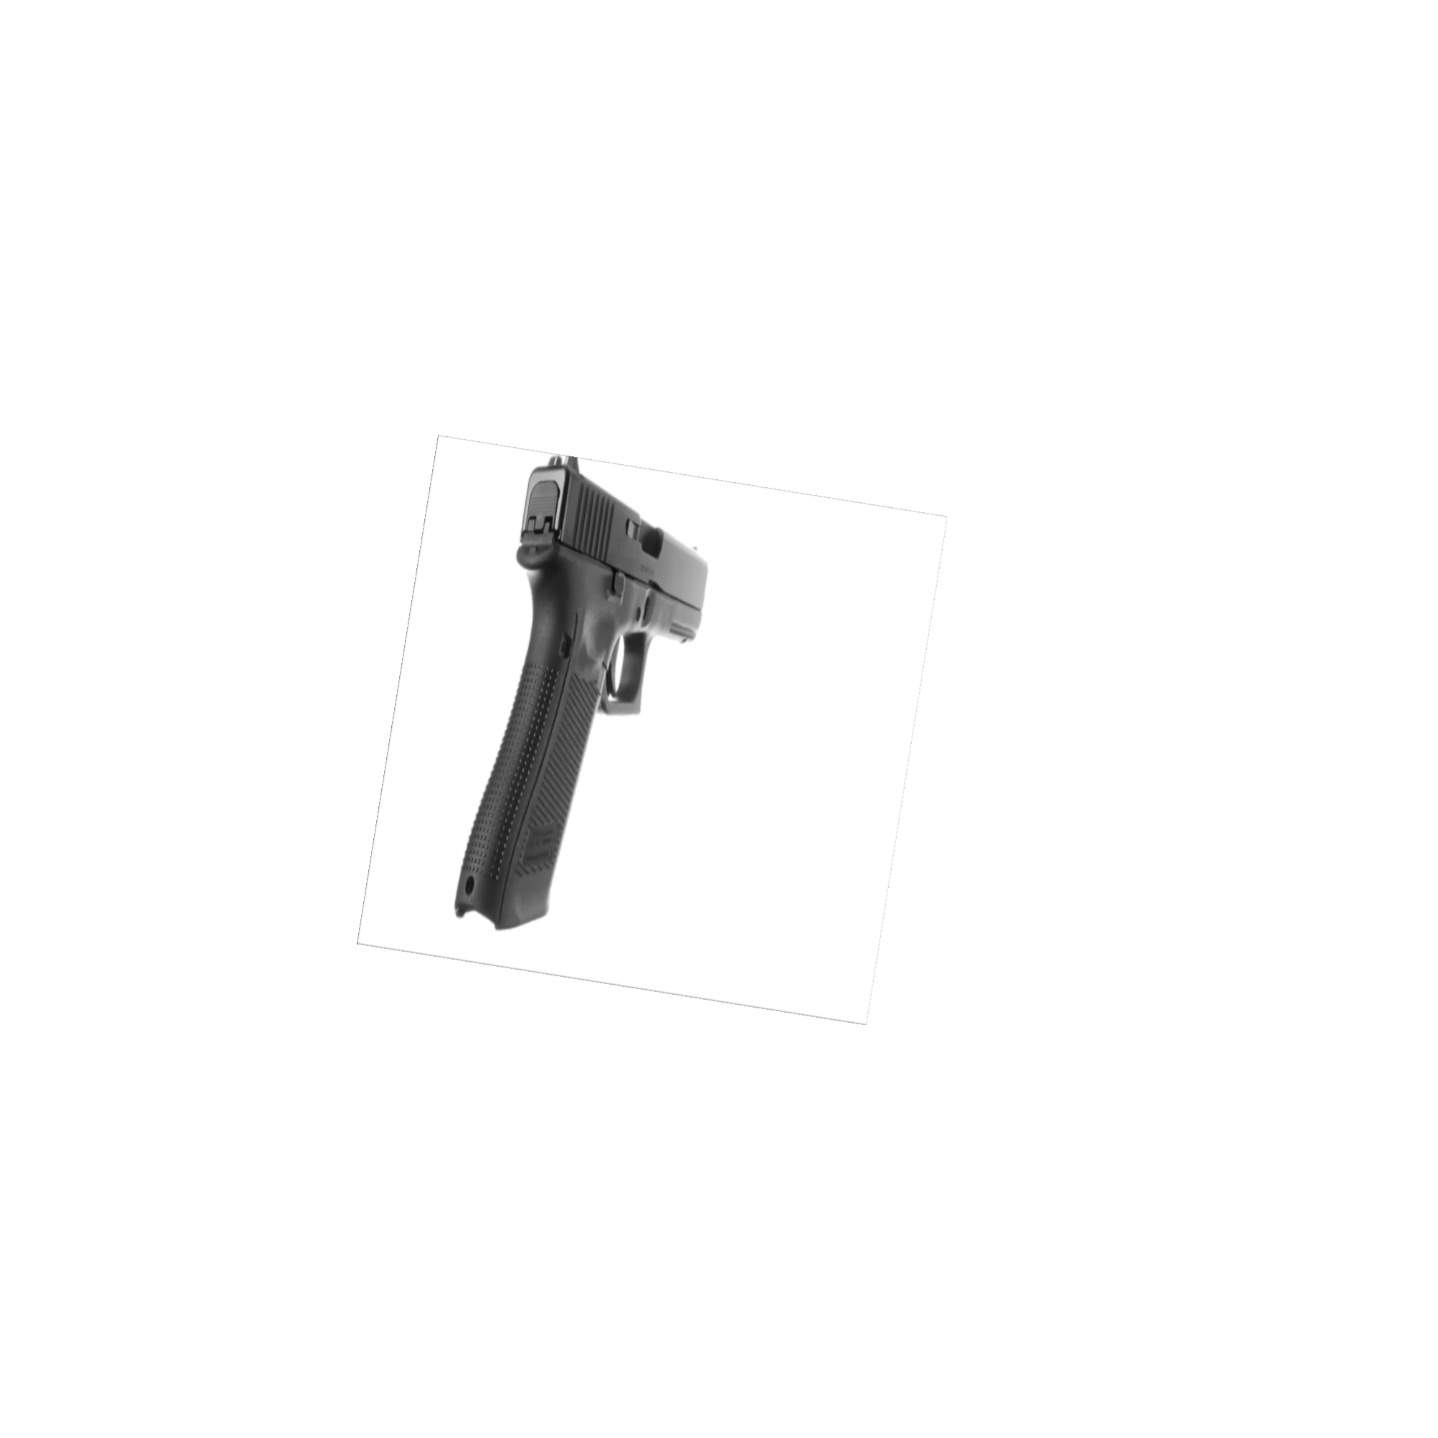gun: (435, 453, 722, 942)
